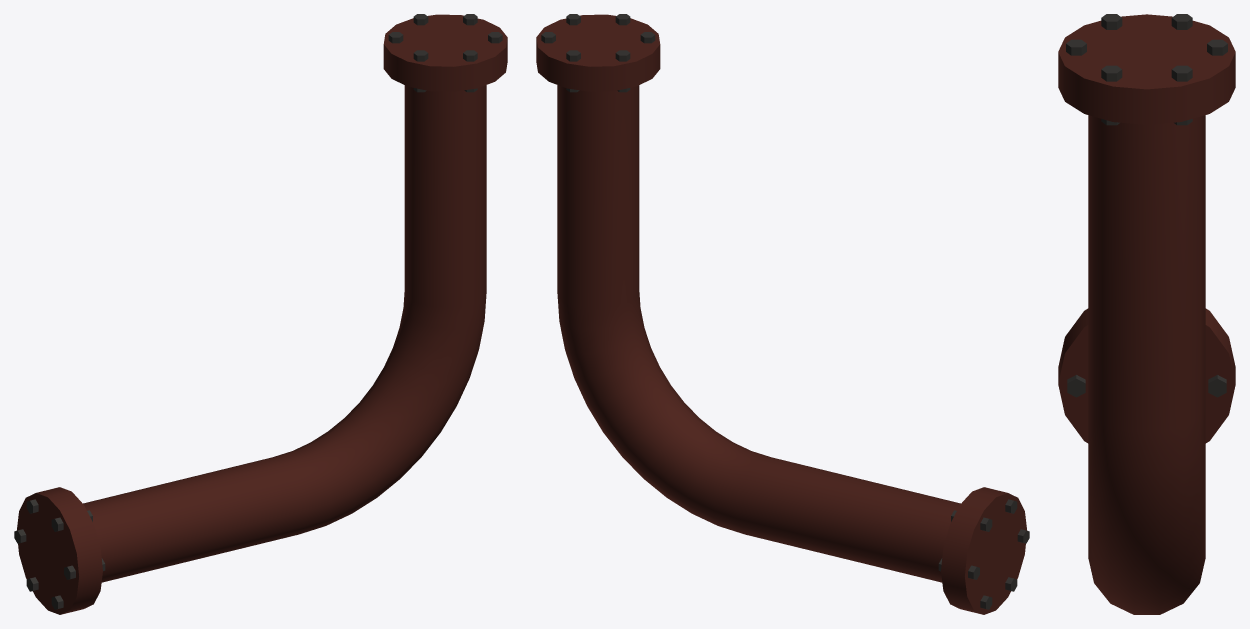
The model's file is PipeElbow.fbx.
3 views of the same model, side by side, from view 1: azimuth 30°, elevation 25°; view 2: azimuth 150°, elevation 25°; view 3: azimuth 270°, elevation 25° (orthographic). The views are drawn at different scales.
Visible parts, largest first — view 1: PipeElbow_Pipe, PipeElbow_Bolts; view 2: PipeElbow_Pipe, PipeElbow_Bolts; view 3: PipeElbow_Pipe, PipeElbow_Bolts.
Boxes of the visible parts, left/top/right/bottom form: PipeElbow_Pipe: left=16, top=14, right=507, bottom=614; PipeElbow_Bolts: left=14, top=14, right=502, bottom=609; PipeElbow_Pipe: left=536, top=14, right=1027, bottom=614; PipeElbow_Bolts: left=541, top=14, right=1029, bottom=609; PipeElbow_Pipe: left=1058, top=14, right=1235, bottom=614; PipeElbow_Bolts: left=1066, top=14, right=1227, bottom=397.
Size of the model in its own units: 0.575 by 0.575 by 0.136.
